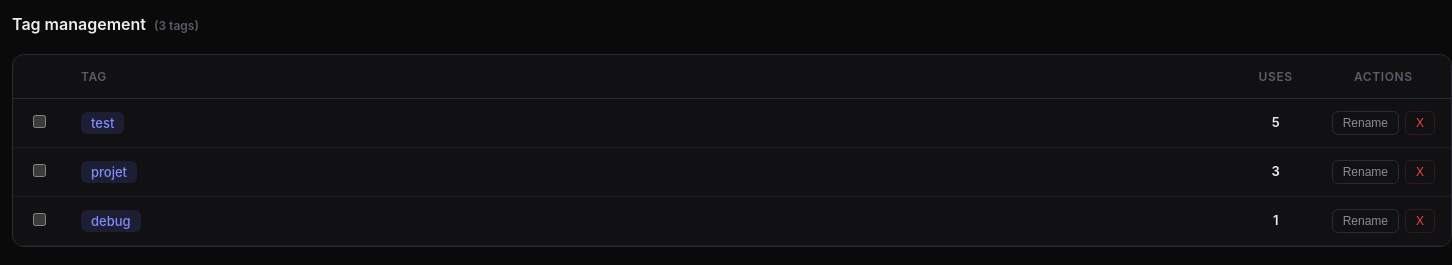
Scenario: Tags › annule le renommage avec Escape
Check: the text "test" is shown, box [81, 112, 124, 134]
Click the button with aria-label "Renommer" at (1365, 123), box [1332, 111, 1399, 135]
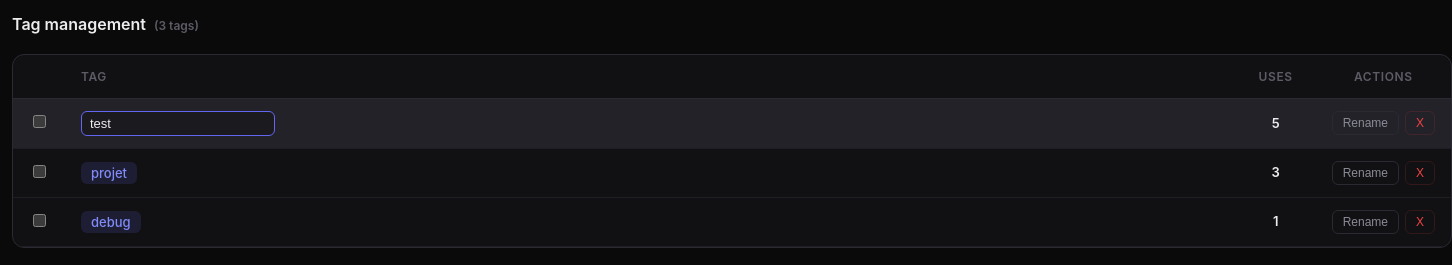
Check: the field showing "test" is shown, box [81, 111, 275, 136]
Press Escape
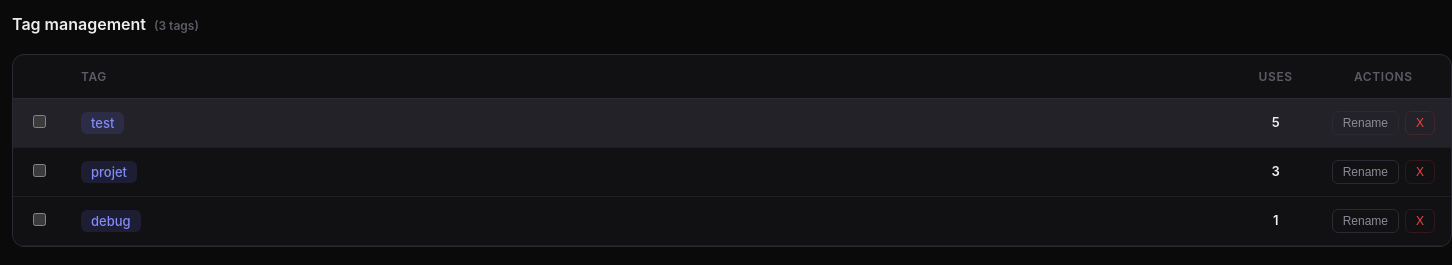
Check: the text "test" is shown, box [81, 112, 124, 134]
